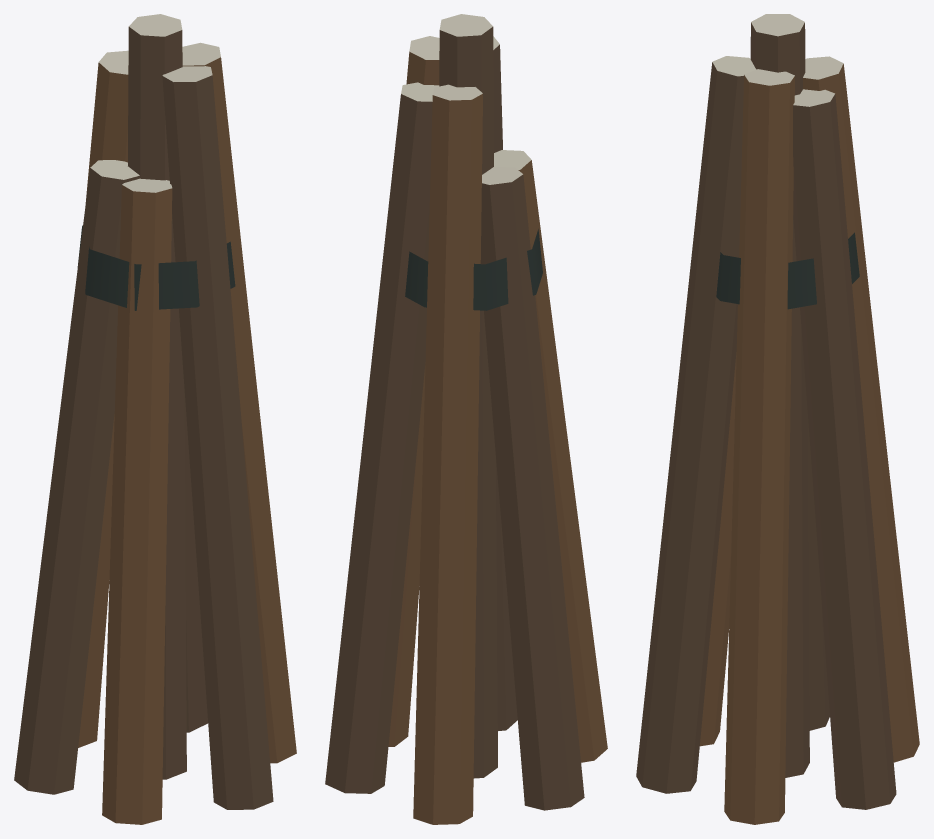
The model's file is sf_pier_pilings.glb.
The picture shows the model from 3 angles, left to right: view 1: azimuth 30°, elevation 25°; view 2: azimuth 150°, elevation 25°; view 3: azimuth 270°, elevation 25°; orthographic projection.
Visible parts, largest first — view 1: sf_pier_pilings; view 2: sf_pier_pilings; view 3: sf_pier_pilings.
Part boxes in pixels (x1,y1,x2,y2): sf_pier_pilings: [14, 14, 296, 824]; sf_pier_pilings: [325, 14, 607, 824]; sf_pier_pilings: [636, 14, 919, 824].
Size of the model in its own units: 1.77 by 5.02 by 1.73.
Materials: 1 (1 with a texture image).
